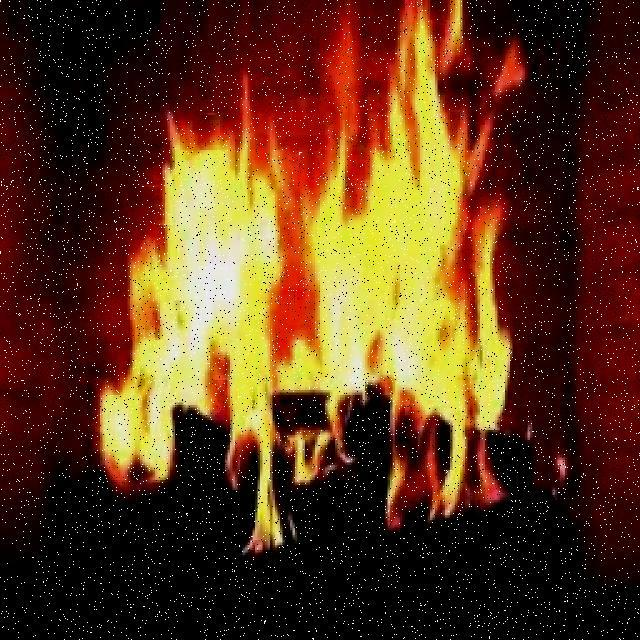Fire: (100, 38, 543, 473)
